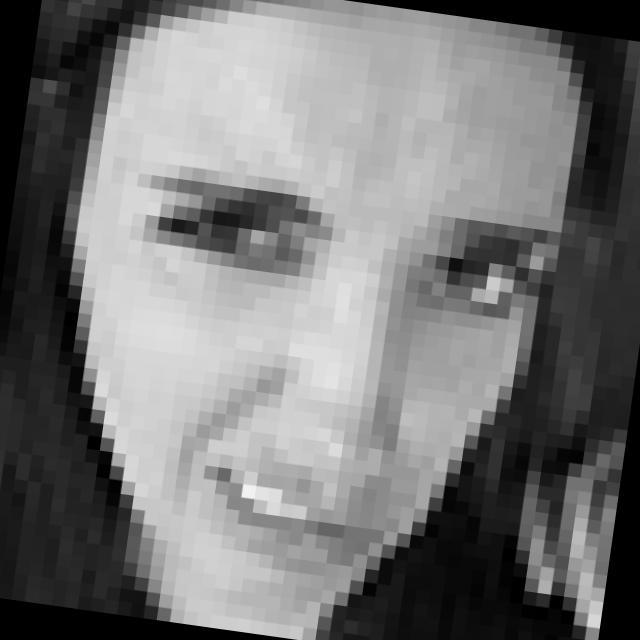disgust: (84, 163, 551, 610)
